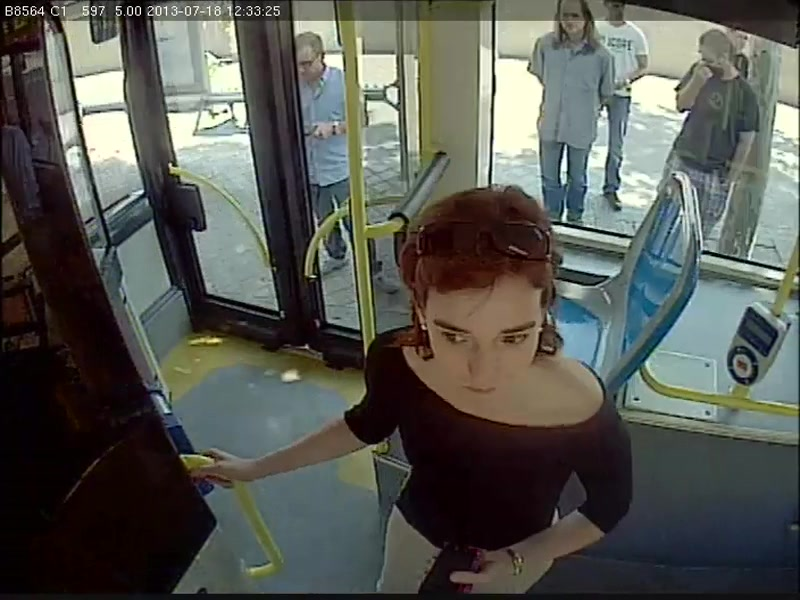Head: (408, 182, 563, 411)
